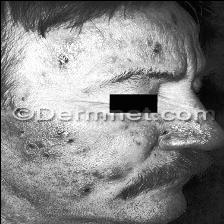Non-Cancerous Skin Condition: (38, 38, 178, 78), (5, 130, 93, 161), (50, 176, 108, 211), (156, 123, 216, 147), (0, 187, 32, 224)
